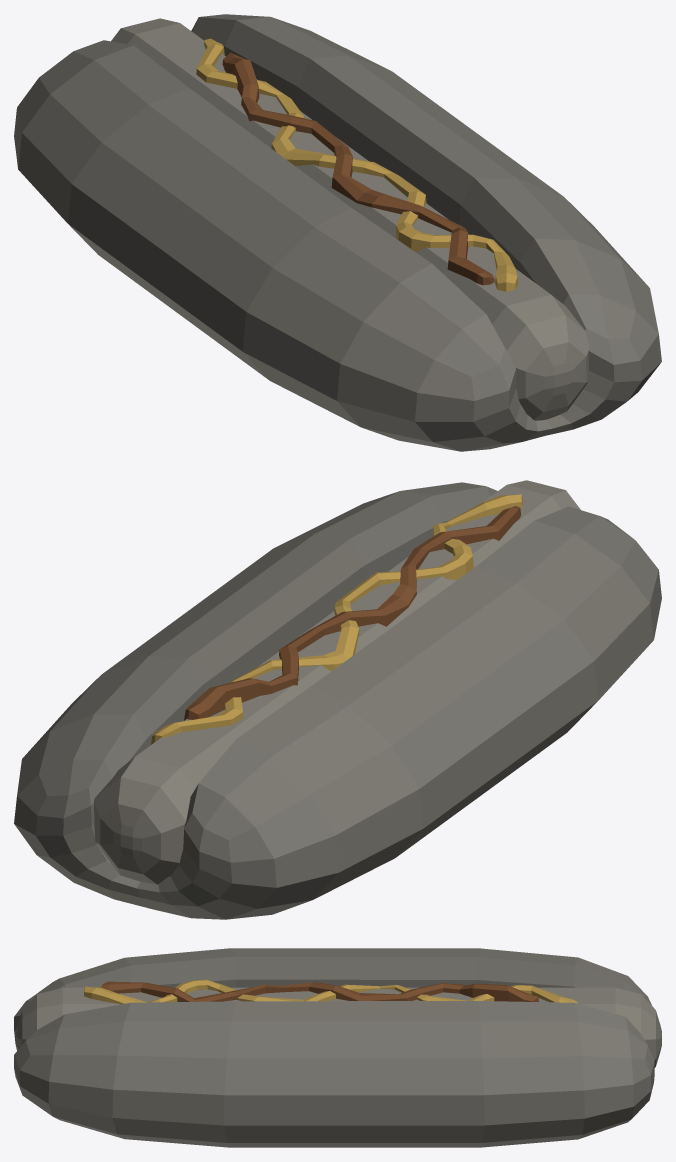
The model's file is cc0-hotdog-lod0.glb.
3 views of the same model, one above another, from view 1: azimuth 30°, elevation 25°; view 2: azimuth 150°, elevation 25°; view 3: azimuth 270°, elevation 25° (orthographic). The views are drawn at different scales.
Visible parts, largest first — view 1: part_0; view 2: part_0; view 3: part_0.
Boxes of the visible parts, x1=… form: part_0: x1=14, y1=14, x2=661, y2=451; part_0: x1=14, y1=480, x2=661, y2=919; part_0: x1=14, y1=948, x2=661, y2=1147.
Size of the model in its own units: 0.7853 by 0.4094 by 1.66.
